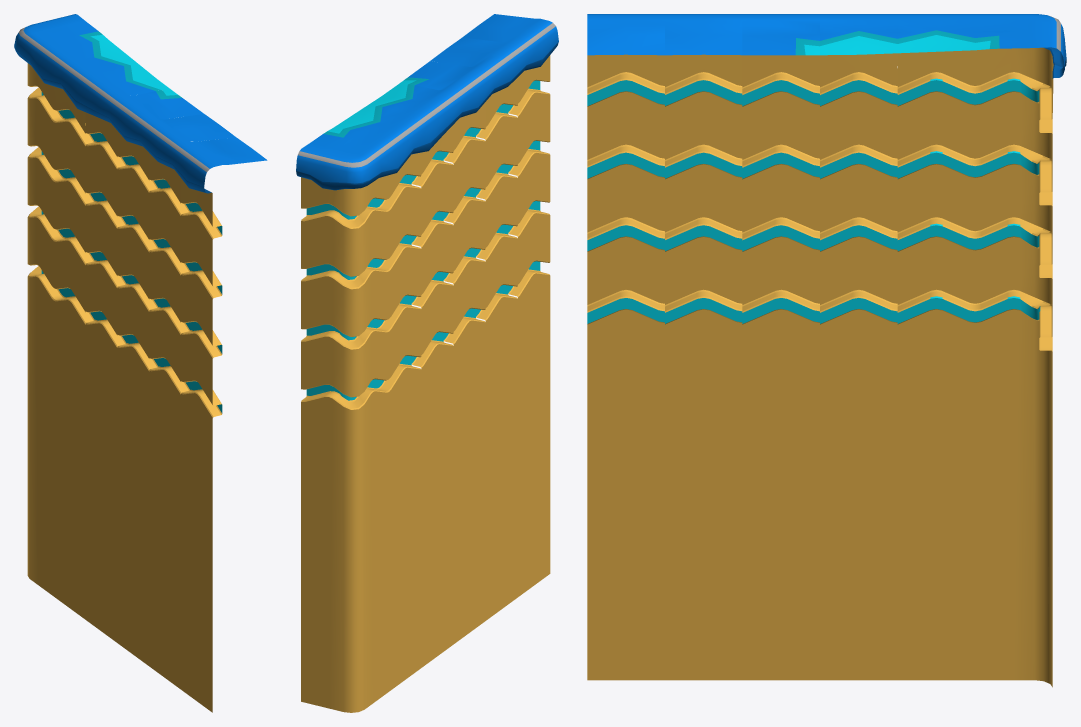
File: V2_Ground_Left.fbx
The picture shows the model from 3 angles, left to right: view 1: azimuth 30°, elevation 25°; view 2: azimuth 150°, elevation 25°; view 3: azimuth 270°, elevation 25°; orthographic projection. The views are drawn at different scales.
Parts seen in each view (by area): view 1: V2_Ground_Left; view 2: V2_Ground_Left; view 3: V2_Ground_Left.
Boxes of the visible parts, <box> form: V2_Ground_Left: <box>14,14,267,712</box>; V2_Ground_Left: <box>296,14,558,712</box>; V2_Ground_Left: <box>587,14,1066,687</box>.
Bounding box in the file's own units: 235 × 1893 × 1236.
